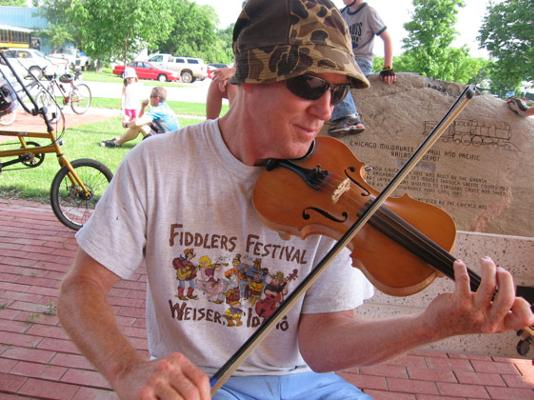person: (56, 1, 533, 400)
